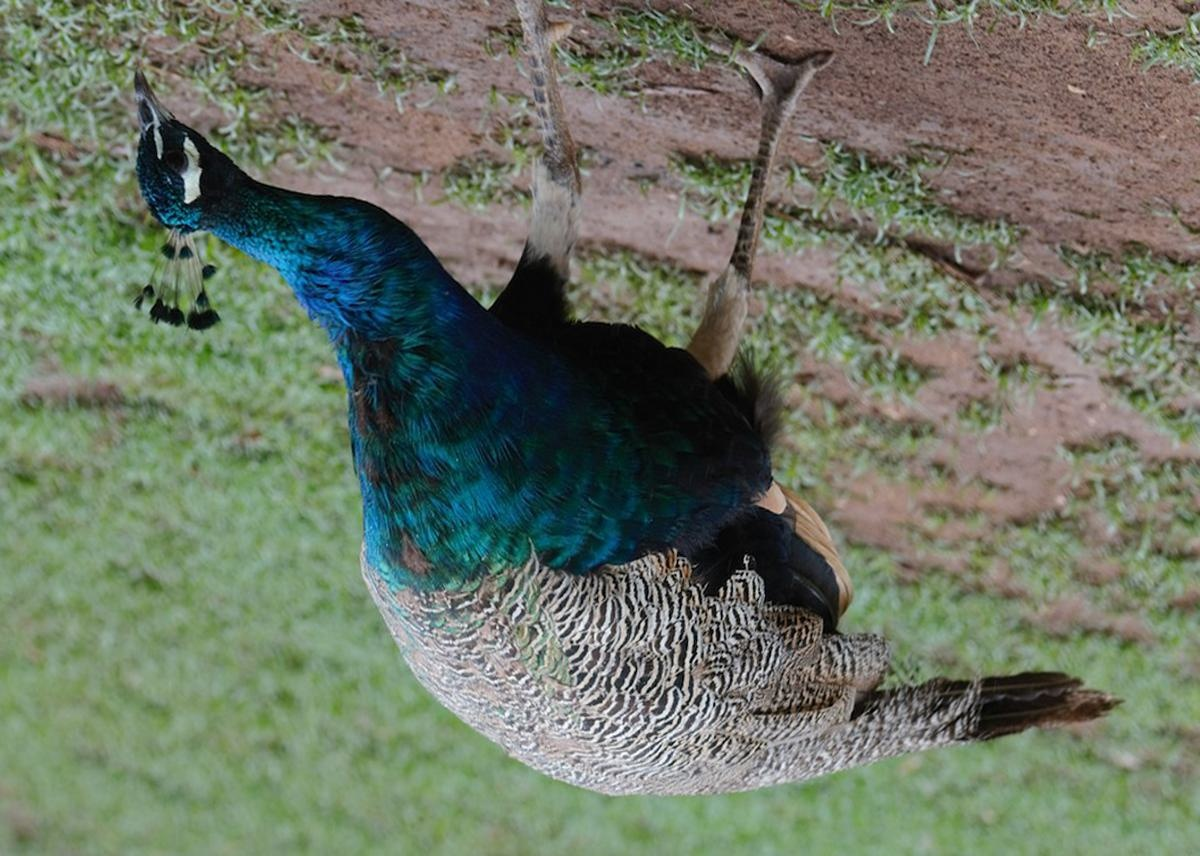peacock: (96, 53, 988, 814)
